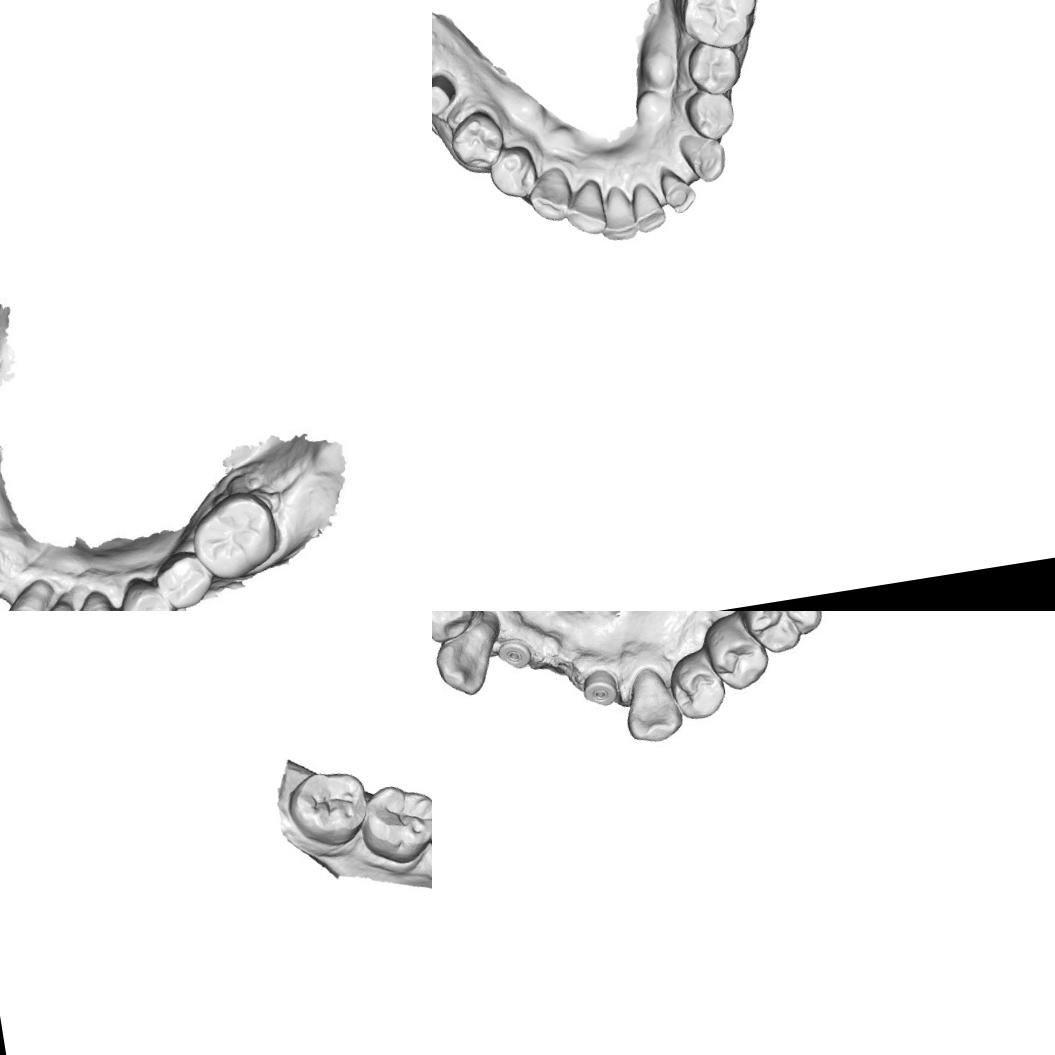abutment: (432, 72, 458, 117)
canine: (620, 664, 683, 747), (432, 622, 498, 698), (676, 128, 730, 188), (524, 164, 576, 225), (59, 586, 126, 611)
implant: (496, 630, 536, 672), (582, 666, 618, 712)
incisor: (560, 176, 608, 239), (594, 183, 638, 245), (656, 161, 698, 215), (629, 178, 668, 234), (0, 591, 51, 611)
molar: (181, 484, 288, 586), (282, 763, 374, 853), (353, 777, 432, 871), (673, 0, 763, 54), (731, 611, 826, 658)
premolar: (706, 617, 773, 692), (151, 547, 216, 611), (446, 107, 508, 173), (669, 656, 727, 723), (684, 36, 744, 98), (681, 86, 738, 145), (486, 143, 540, 202), (115, 569, 176, 611), (432, 611, 488, 648)
